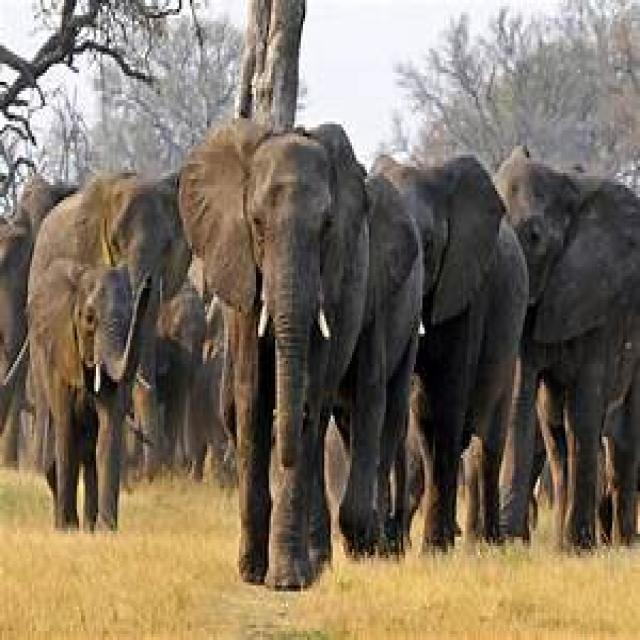elephant: (177, 118, 425, 595), (491, 152, 640, 552), (405, 158, 535, 552), (2, 261, 151, 534), (28, 173, 192, 385)
